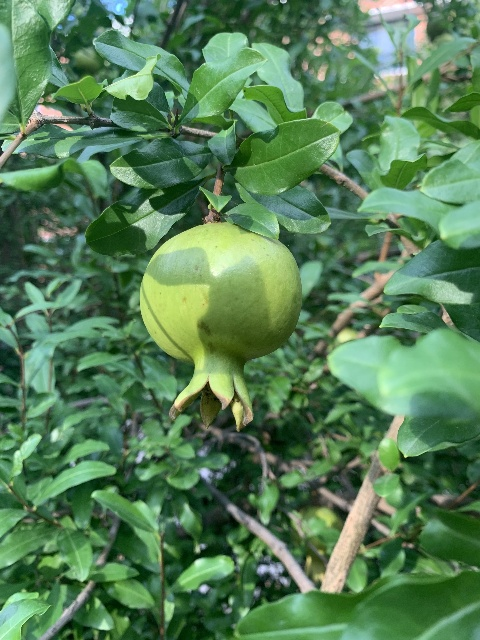mid-growth: (138, 222, 302, 431)
